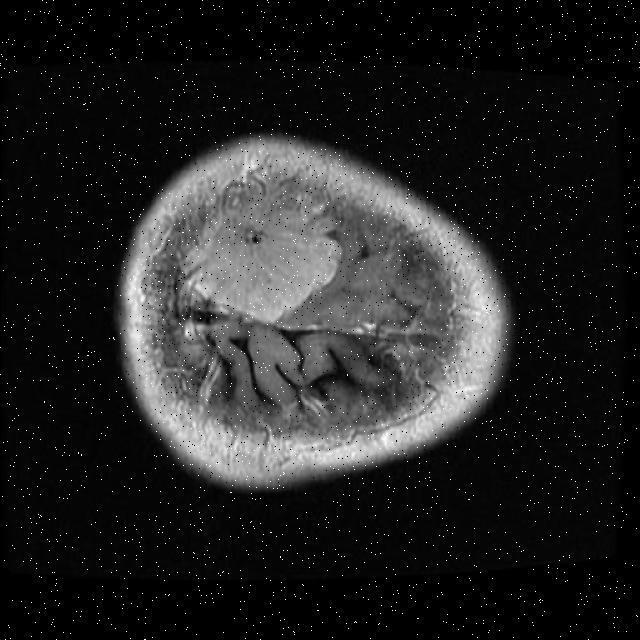Meningioma: (186, 169, 340, 322)
